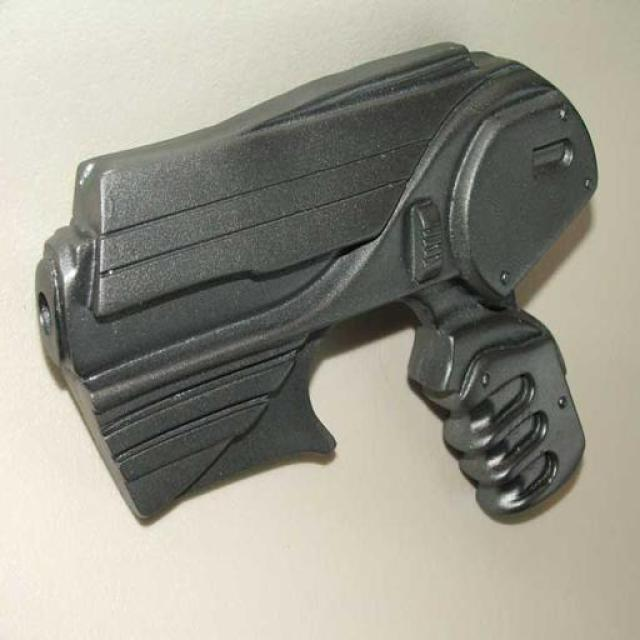pistol: (31, 36, 599, 528)
